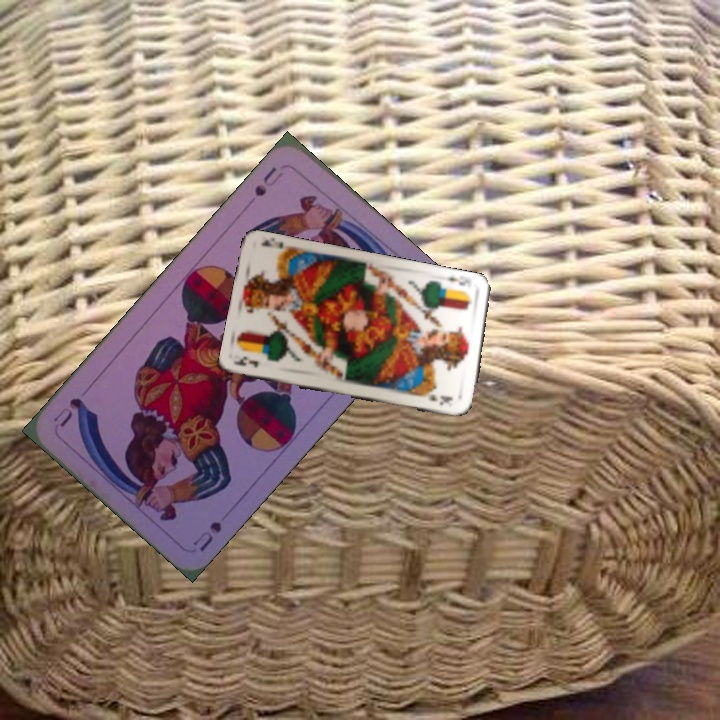EK: (441, 273, 474, 292), (233, 353, 262, 370)
SU: (188, 517, 225, 555), (250, 162, 286, 199)
